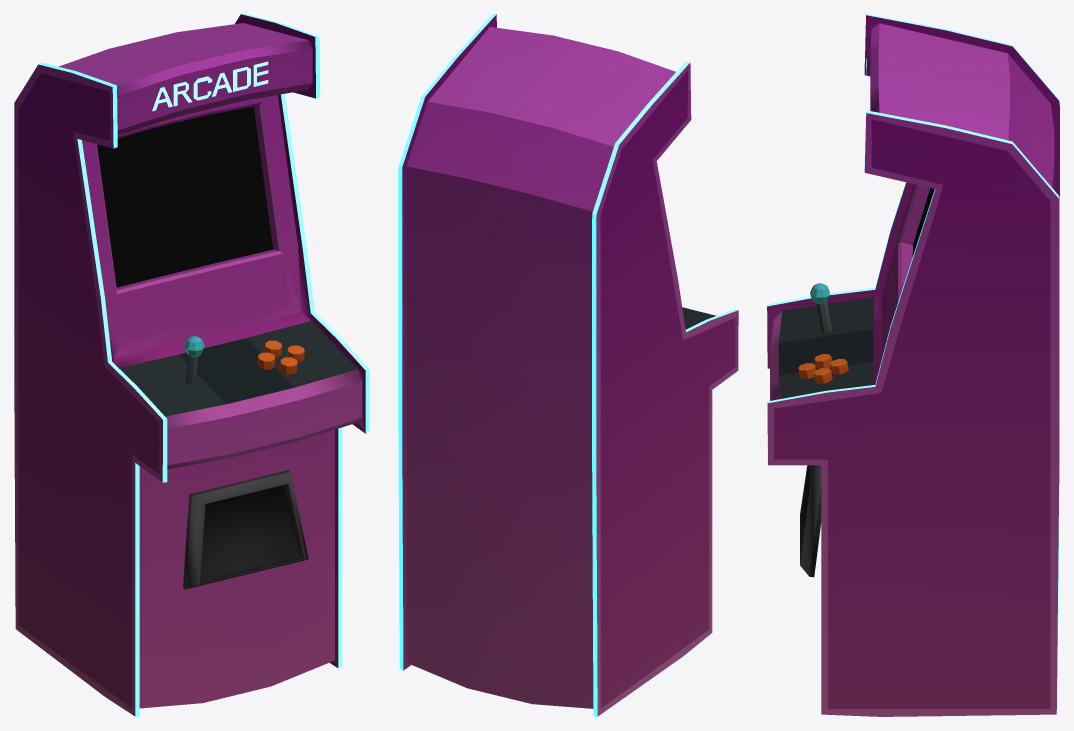
The model's file is arcade red.fbx.
The picture shows the model from 3 angles, left to right: view 1: azimuth 30°, elevation 25°; view 2: azimuth 150°, elevation 25°; view 3: azimuth 270°, elevation 25°; orthographic projection. The views are drawn at different scales.
Visible parts, largest first — view 1: Plane.003; view 2: Plane.003; view 3: Plane.003.
Boxes of the visible parts, <box> form: Plane.003: <box>14,14,369,716</box>; Plane.003: <box>398,14,738,716</box>; Plane.003: <box>767,14,1059,716</box>.
Size of the model in its own units: 114 by 326 by 142.
